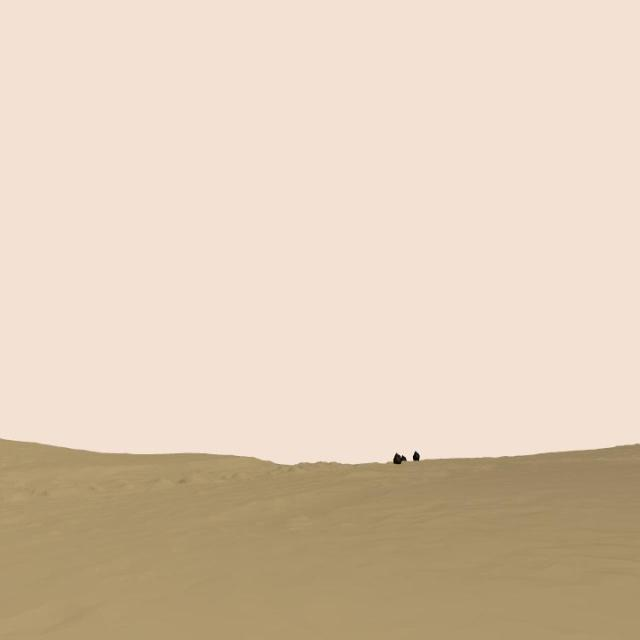rock: (393, 454, 401, 465), (412, 451, 420, 462), (402, 456, 405, 462)
